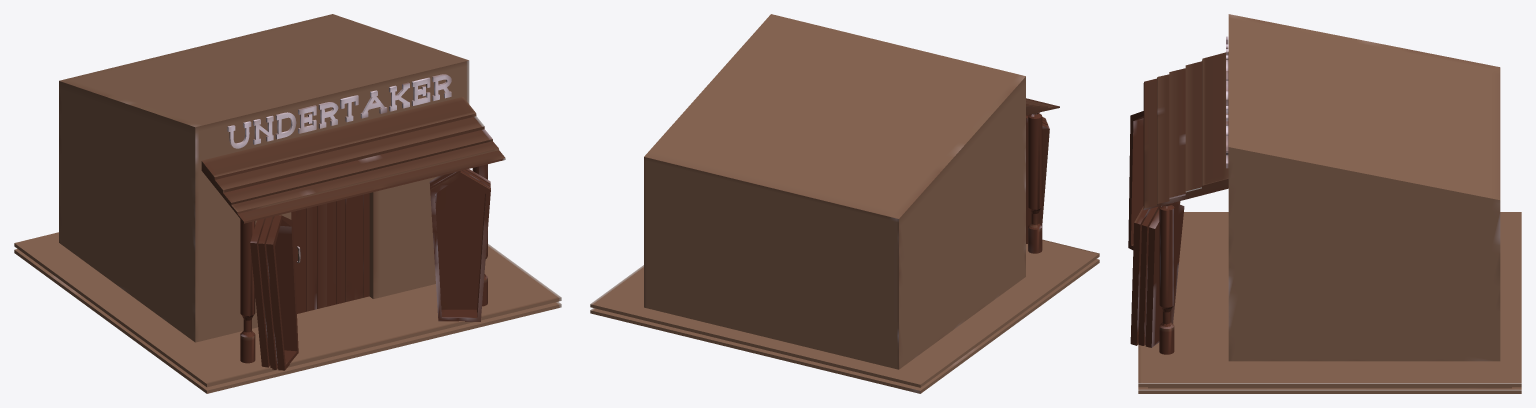
File: House7.fbx
The picture shows the model from 3 angles, left to right: view 1: azimuth 30°, elevation 25°; view 2: azimuth 150°, elevation 25°; view 3: azimuth 270°, elevation 25°; orthographic projection. The views are drawn at different scales.
Visible parts, largest first — view 1: House7_LOD0; view 2: House7_LOD0; view 3: House7_LOD0.
Part boxes in pixels (x1,y1,x2,y2): House7_LOD0: [14, 14, 561, 393]; House7_LOD0: [590, 14, 1099, 393]; House7_LOD0: [1128, 14, 1521, 393].
Size of what is drawn, in the model's own units: 343 by 208 by 331.
